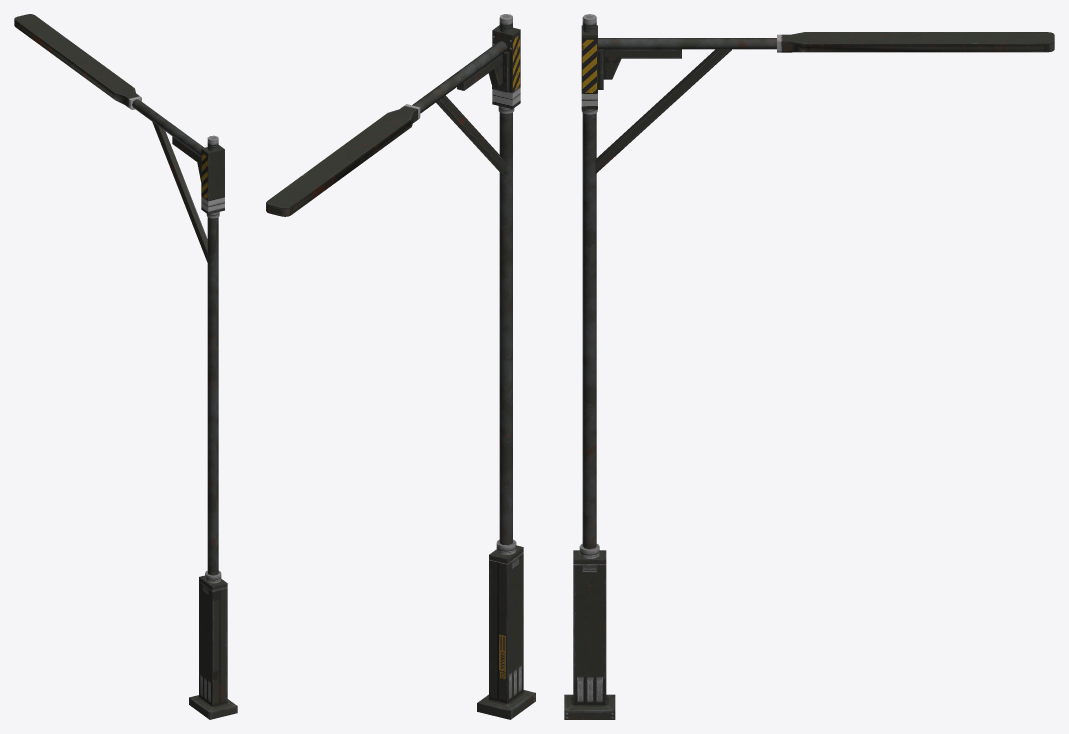
File: CP_Street_Lamp_03.fbx
3 renders of one model, left to right at view 1: azimuth 30°, elevation 25°; view 2: azimuth 150°, elevation 25°; view 3: azimuth 270°, elevation 25°, orthographic. The views are drawn at different scales.
Parts seen in each view (by area): view 1: CP_Street_Lamp_03_LOD0; view 2: CP_Street_Lamp_03_LOD0; view 3: CP_Street_Lamp_03_LOD0.
Part boxes in pixels (<box>): CP_Street_Lamp_03_LOD0: <box>14,14,237,719</box>; CP_Street_Lamp_03_LOD0: <box>266,14,535,719</box>; CP_Street_Lamp_03_LOD0: <box>564,14,1054,719</box>.
Size of what is drawn, in the model's own units: 26.56 by 522 by 334.
